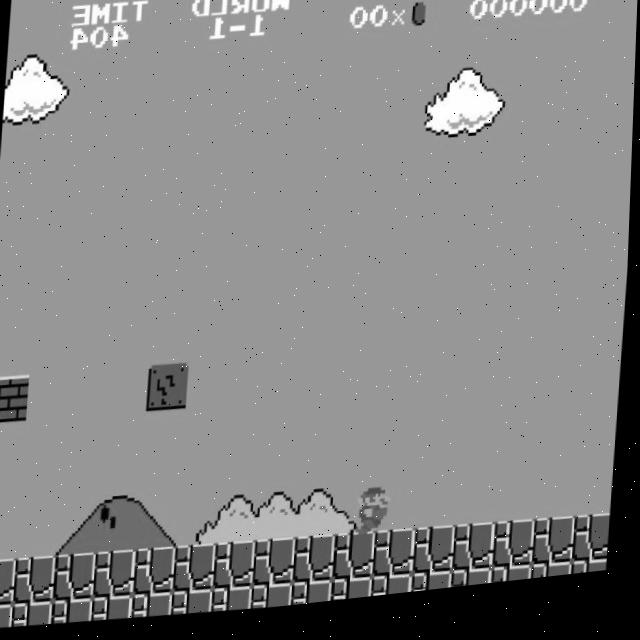1- brick_block: (0, 374, 33, 424)
11- little_mario: (357, 491, 403, 545)
13- mystery_block: (148, 365, 192, 416)
17- undestructible_block: (136, 549, 181, 600), (96, 551, 141, 602), (56, 553, 101, 604), (16, 555, 61, 606), (536, 528, 580, 579), (496, 530, 540, 581), (456, 532, 500, 583), (416, 534, 460, 585), (376, 536, 420, 587), (336, 538, 380, 589), (296, 540, 340, 591), (256, 543, 300, 594), (216, 545, 260, 596), (176, 547, 220, 598), (576, 526, 614, 577), (254, 588, 297, 616), (215, 590, 258, 618), (175, 592, 218, 620), (135, 594, 178, 622), (95, 596, 138, 624), (55, 599, 98, 627), (15, 601, 58, 629), (294, 586, 337, 613), (334, 583, 377, 609), (0, 557, 21, 607), (374, 582, 417, 606), (414, 579, 457, 602), (454, 578, 497, 599), (494, 575, 537, 595), (534, 573, 577, 592), (574, 572, 611, 588), (0, 603, 17, 630)
